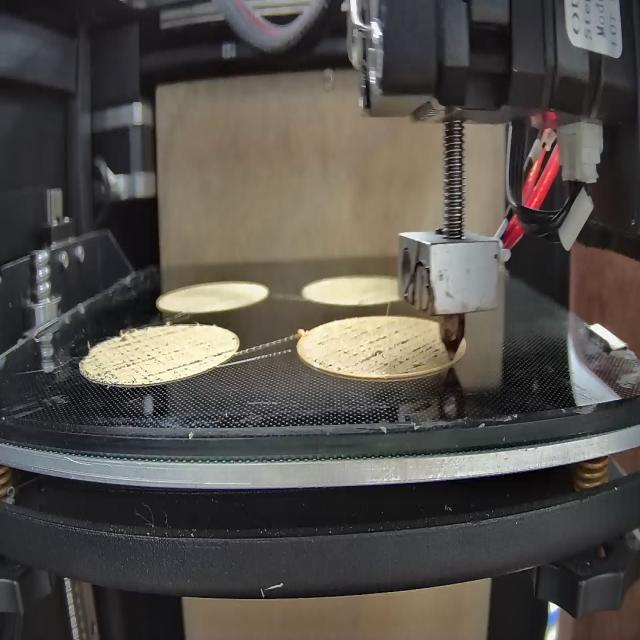under_extrusion: (83, 327, 206, 379), (313, 324, 444, 371), (212, 340, 236, 362)
